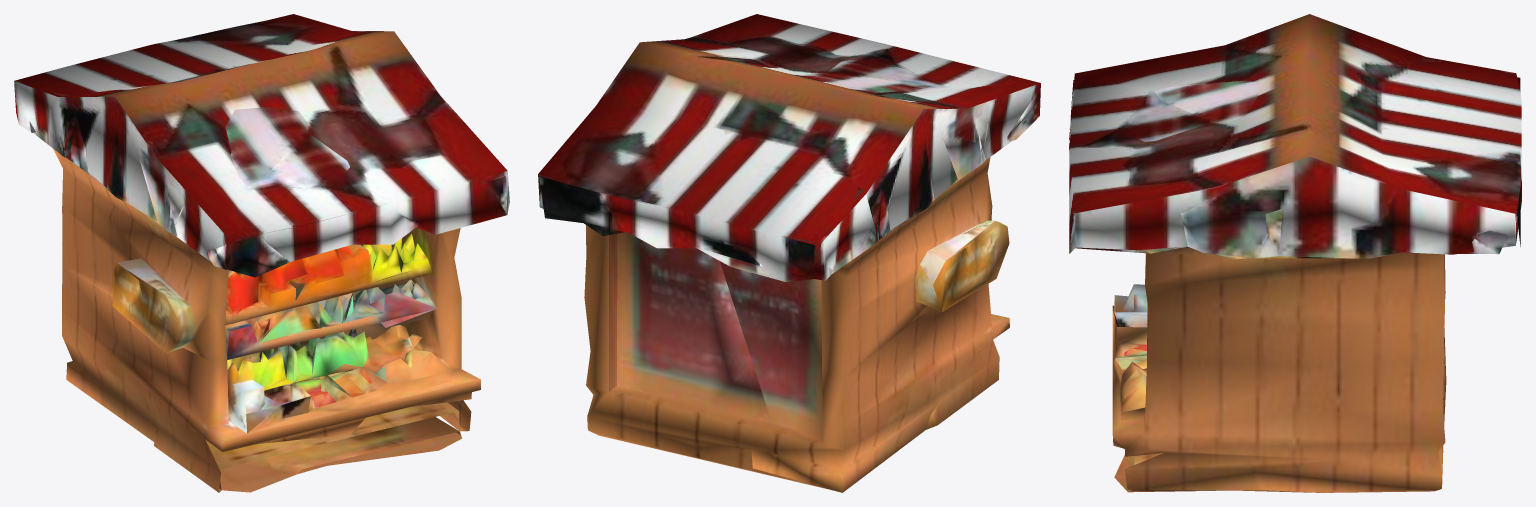
File: kiosk-red.glb
The picture shows the model from 3 angles, left to right: view 1: azimuth 30°, elevation 25°; view 2: azimuth 150°, elevation 25°; view 3: azimuth 270°, elevation 25°; orthographic projection. The views are drawn at different scales.
Visible parts, largest first — view 1: kiosk; view 2: kiosk; view 3: kiosk.
Boxes of the visible parts, box(x1,y1,x2,y2) form: kiosk: box(14, 14, 509, 492); kiosk: box(538, 14, 1040, 492); kiosk: box(1069, 14, 1521, 492).
Size of the model in its own units: 3.06 by 3.4 by 4.
1 material, 1 textured.
